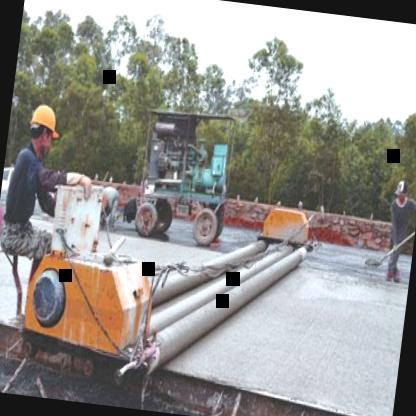helmet: (24, 96, 62, 159)
